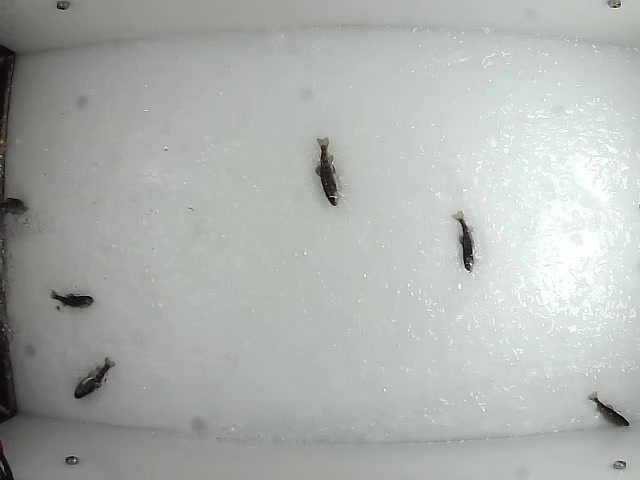fish: (310, 135, 343, 208), (75, 353, 118, 401), (449, 210, 477, 274), (587, 391, 631, 426), (47, 286, 95, 311)
